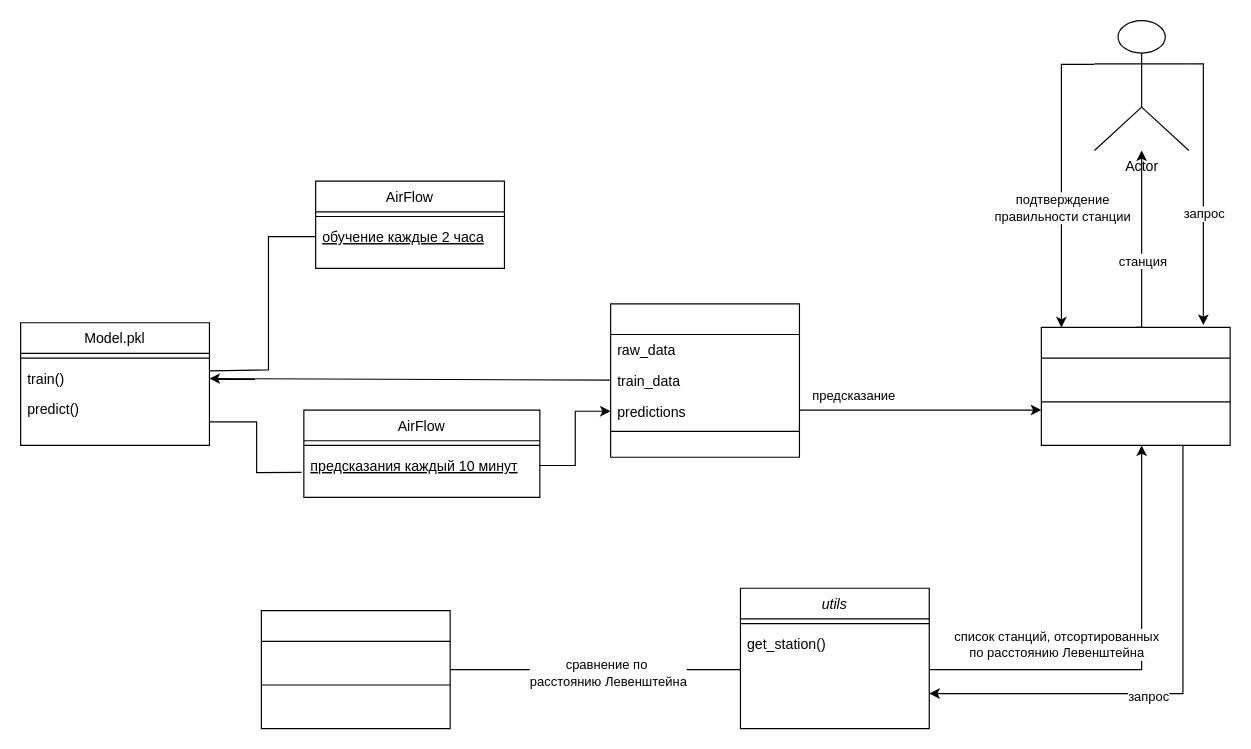
This 1251x749 diagram has some shape labels left out. Each missing label, with the box of its shape:
moscow_metro.json: (260, 609, 450, 729)
TG bot: (1040, 326, 1230, 445)
БД: (609, 303, 799, 457)
